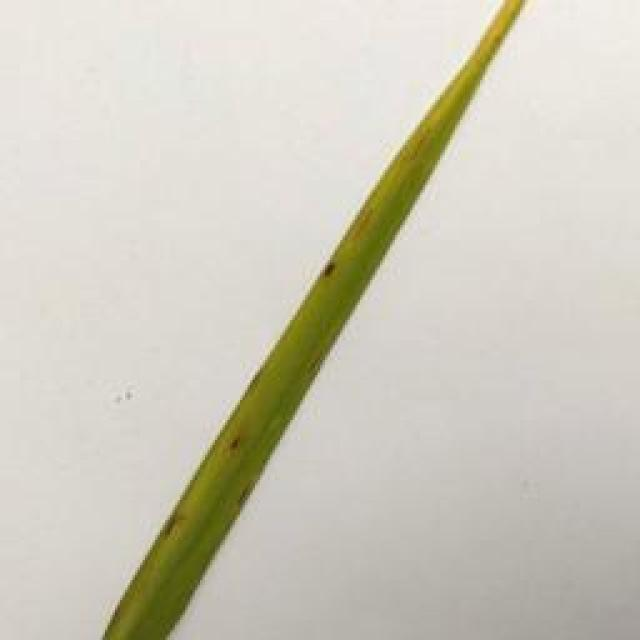Bacterial_Blight: (380, 0, 560, 194)
Brown_Spot: (212, 404, 259, 478), (150, 502, 201, 544), (298, 253, 353, 287), (220, 482, 264, 509)
